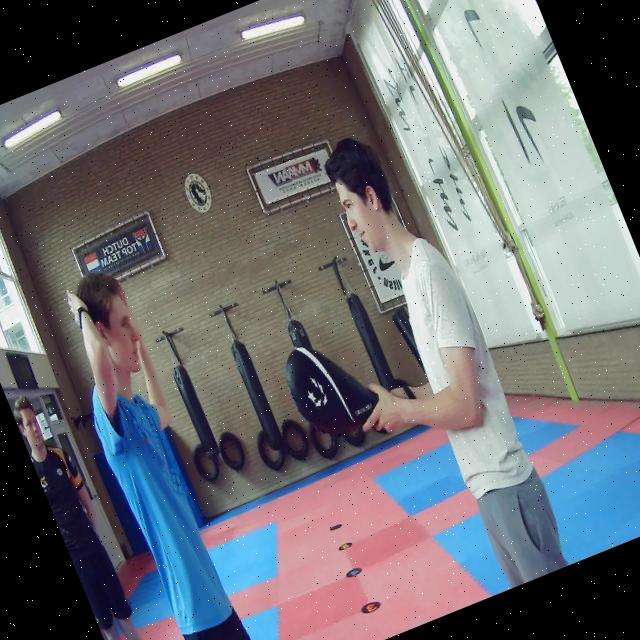paddle: (285, 345, 381, 430)
